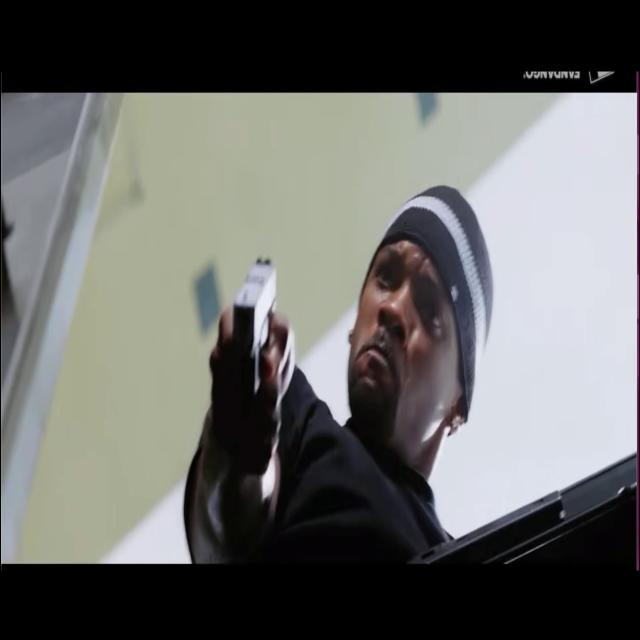weapons: (210, 239, 288, 443)
